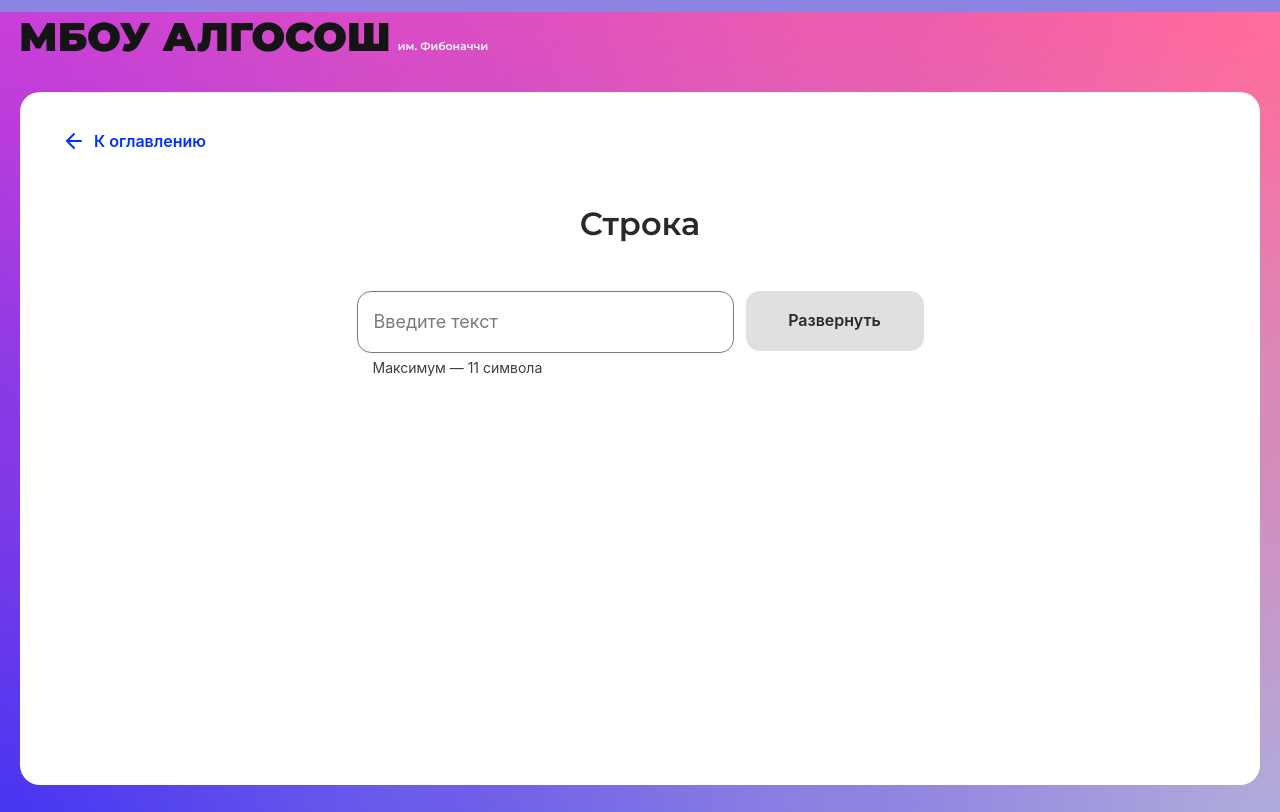
Scenario: String component tests › fill input with some value should activate button
Type "1234" into the field with test id "word" at (546, 322), box 357,291 -> 734,353
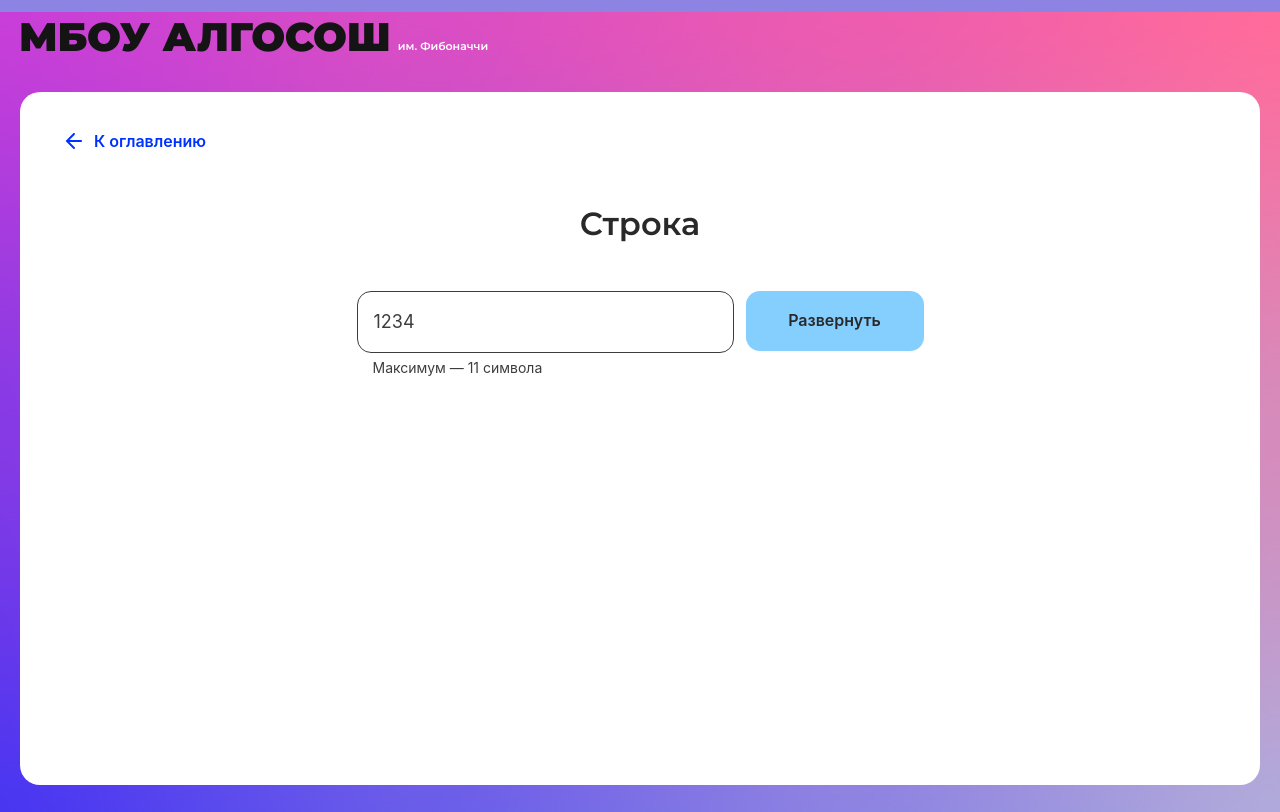
Check: the button with test id "button" is enabled, box 746,291 -> 924,351
